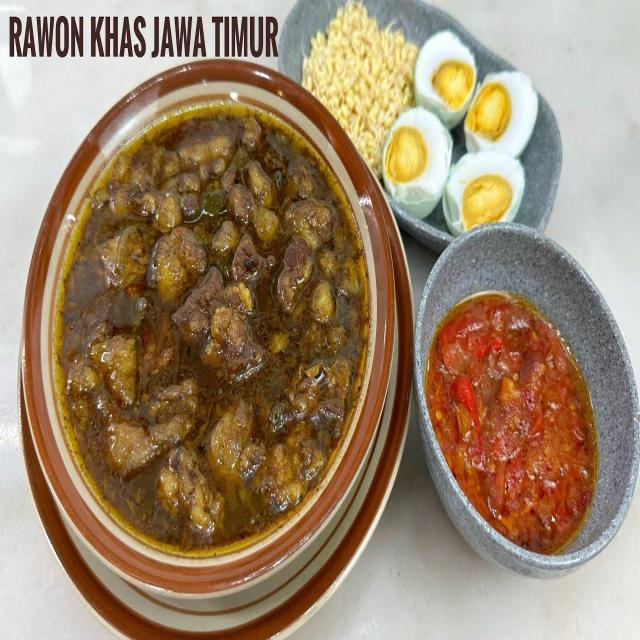Rawon: (68, 112, 350, 517)
